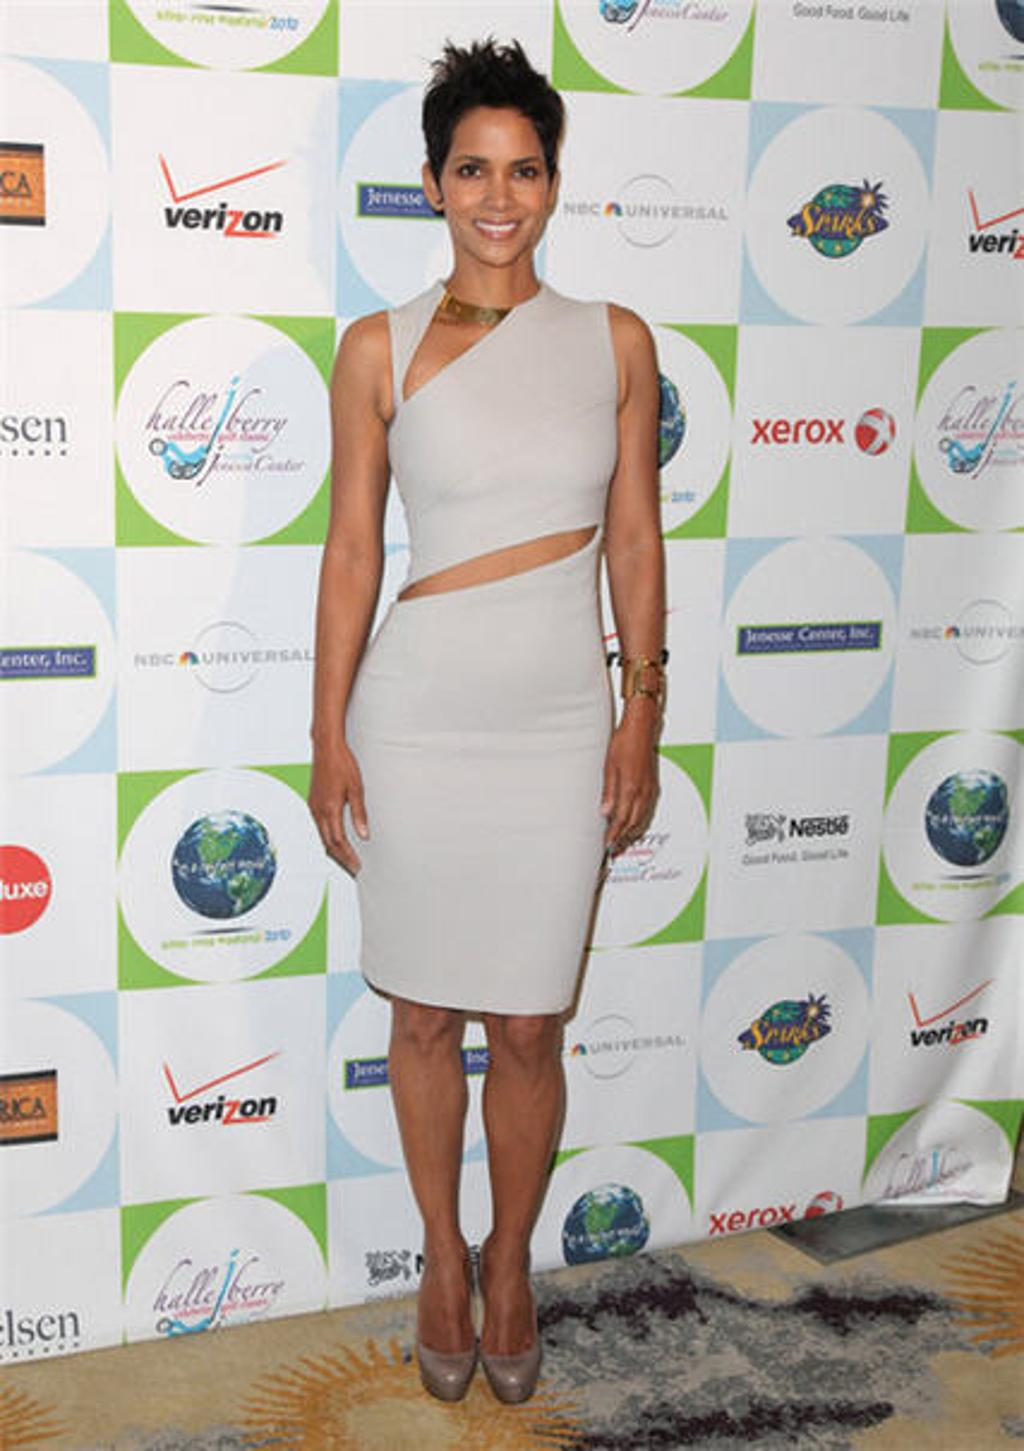face: (440, 102, 551, 261)
